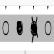correct: (16, 15, 24, 41)
not correct: (29, 14, 40, 44)
